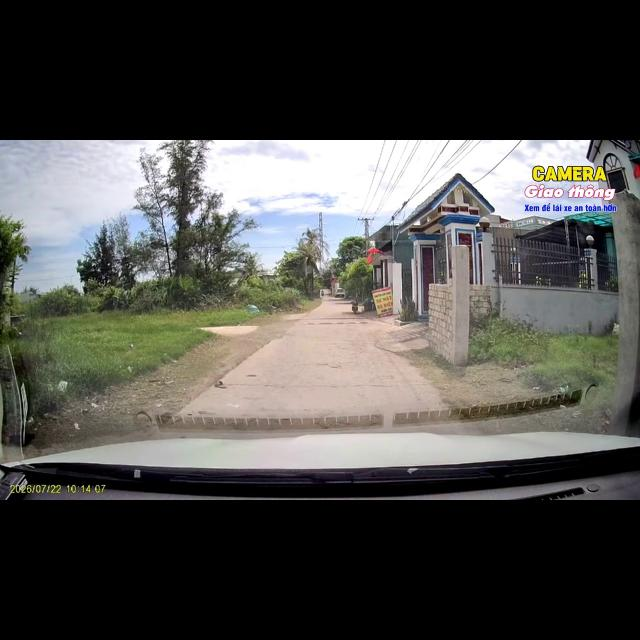car: (335, 288, 344, 297)
motorcycle: (351, 298, 359, 314), (321, 291, 324, 296)
